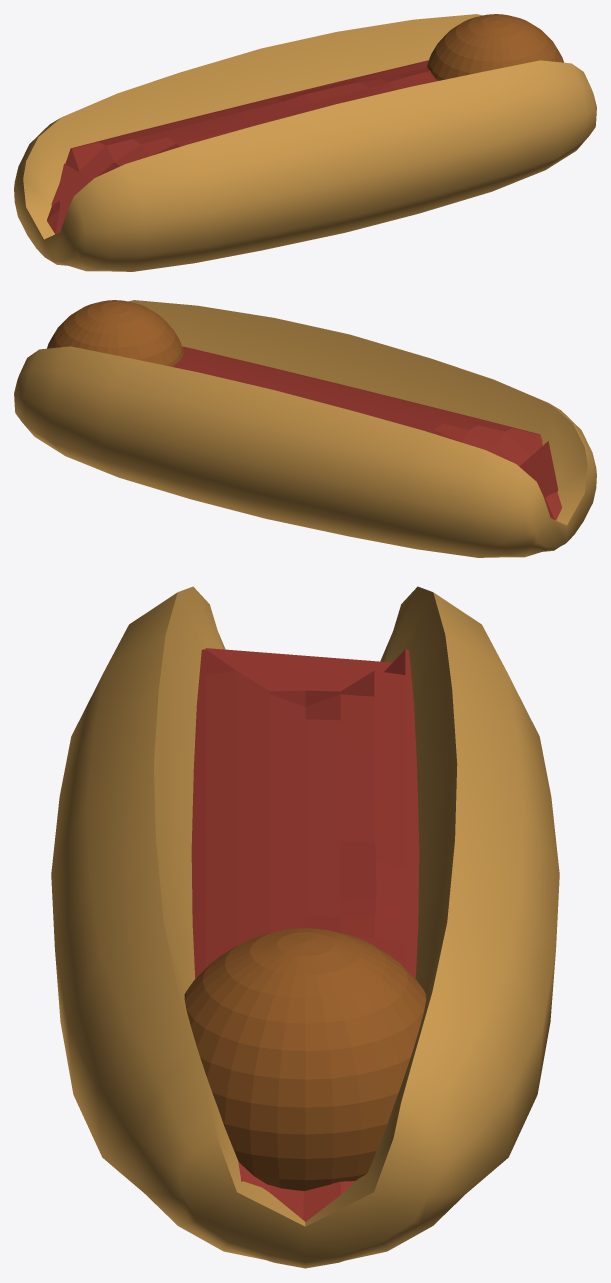
File: 1_4_bun.fbx
3 renders of one model, top to bottom at view 1: azimuth 30°, elevation 25°; view 2: azimuth 150°, elevation 25°; view 3: azimuth 270°, elevation 25°, orthographic. The views are drawn at different scales.
Parts seen in each view (by area): view 1: Hotdog, Cylinder, Sphere.003; view 2: Hotdog, Cylinder, Sphere.003; view 3: Hotdog, Cylinder, Sphere.003.
Boxes of the visible parts, left/top/right/bottom form: Hotdog: left=14, top=14, right=596, bottom=271; Cylinder: left=47, top=60, right=438, bottom=234; Sphere.003: left=427, top=14, right=563, bottom=80; Hotdog: left=14, top=300, right=596, bottom=557; Cylinder: left=172, top=346, right=561, bottom=520; Sphere.003: left=47, top=300, right=183, bottom=366; Hotdog: left=51, top=586, right=559, bottom=1268; Cylinder: left=191, top=648, right=419, bottom=1221; Sphere.003: left=184, top=928, right=426, bottom=1190.
Bounding box in the file's own units: 50.47 × 14 × 21.02.
